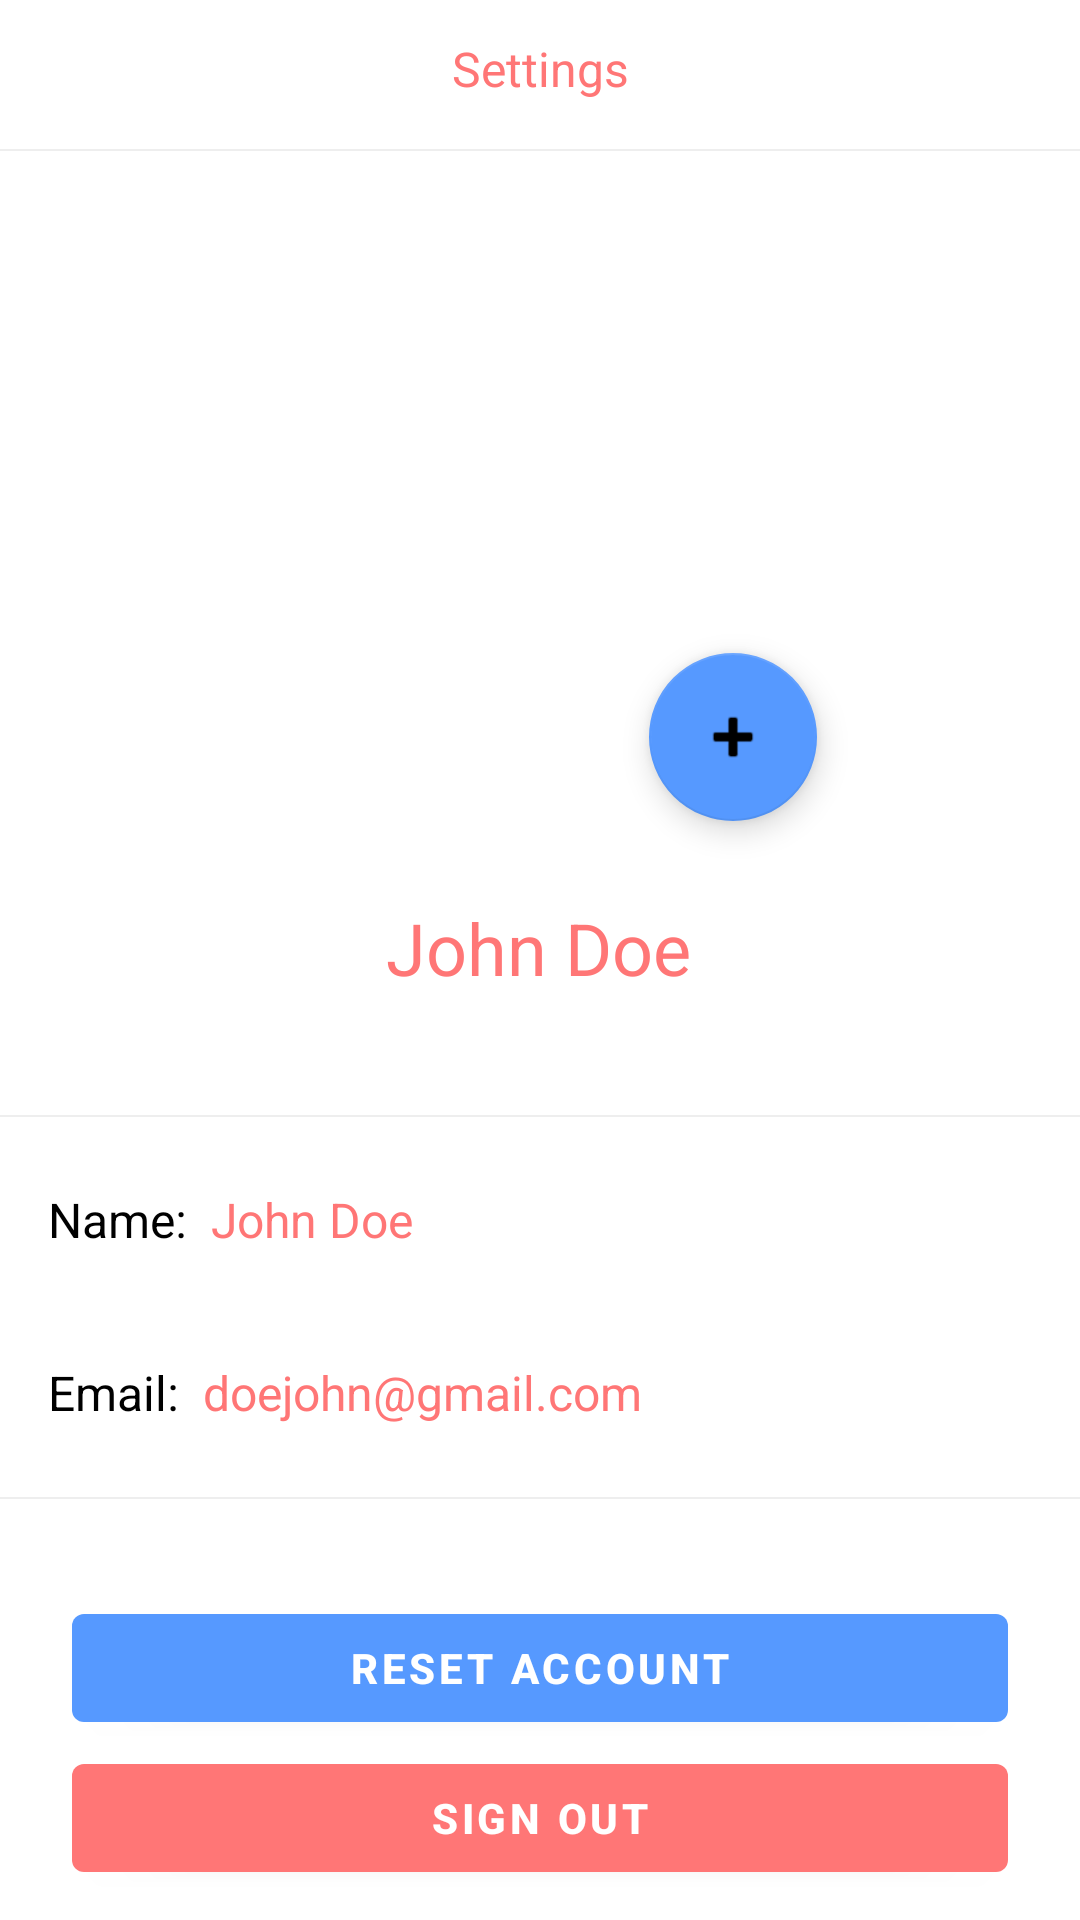

Icons on this 1080 × 1920 Android screen, each with the point to tap as (x,y):
add: (733,737)
